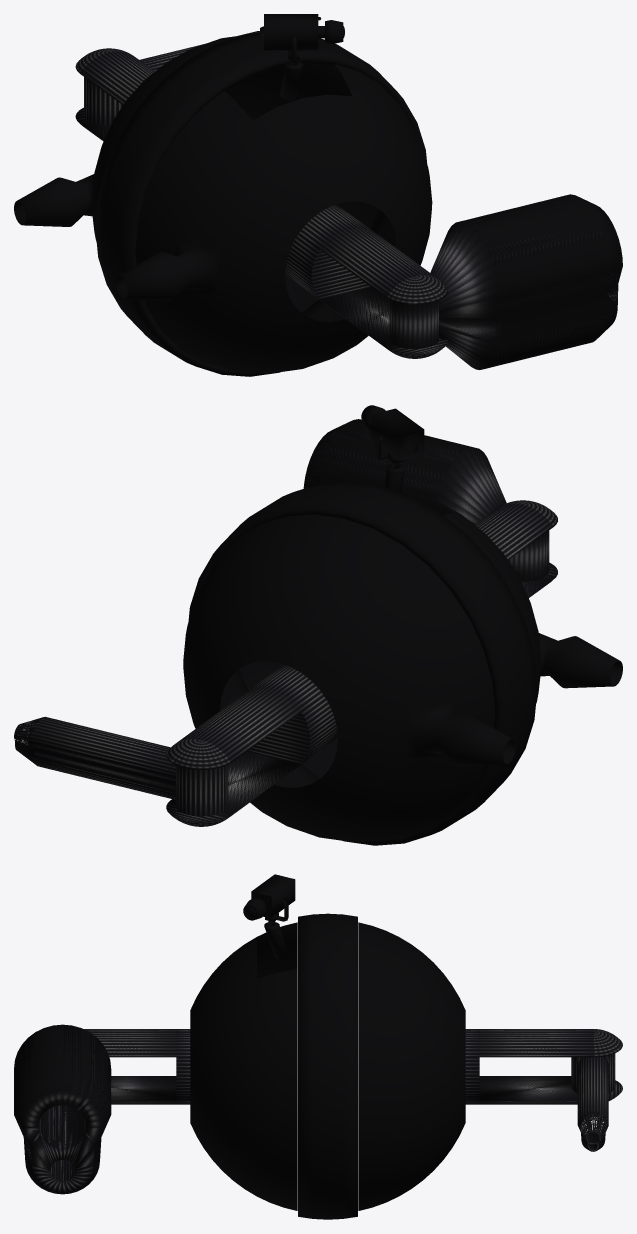
The model's file is BallDroid.fbx.
3 views of the same model, one above another, from view 1: azimuth 30°, elevation 25°; view 2: azimuth 150°, elevation 25°; view 3: azimuth 270°, elevation 25° (orthographic). The views are drawn at different scales.
Visible parts, largest first — view 1: Cylinder_007; view 2: Cylinder_007; view 3: Cylinder_007.
Boxes of the visible parts, left/top/right/bottom form: Cylinder_007: left=14, top=14, right=622, bottom=376; Cylinder_007: left=14, top=405, right=622, bottom=845; Cylinder_007: left=14, top=874, right=622, bottom=1219.
Bounding box in the file's own units: 1.01 × 0.9405 × 1.63.
1 material, 1 textured.
